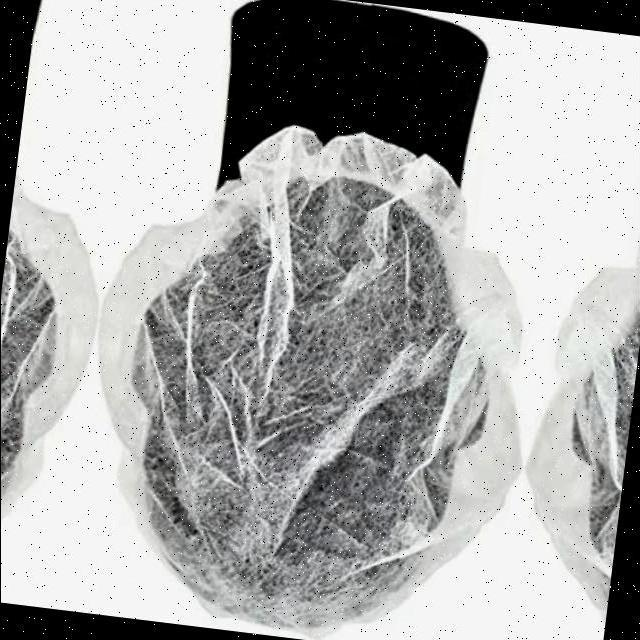gloves: (84, 163, 536, 603)
